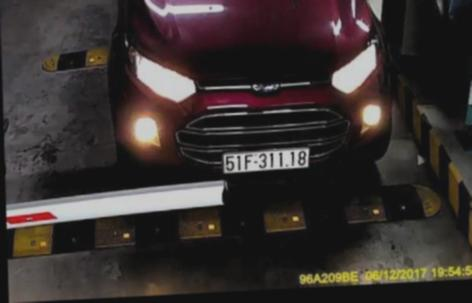License_Plate: (221, 146, 309, 176)
